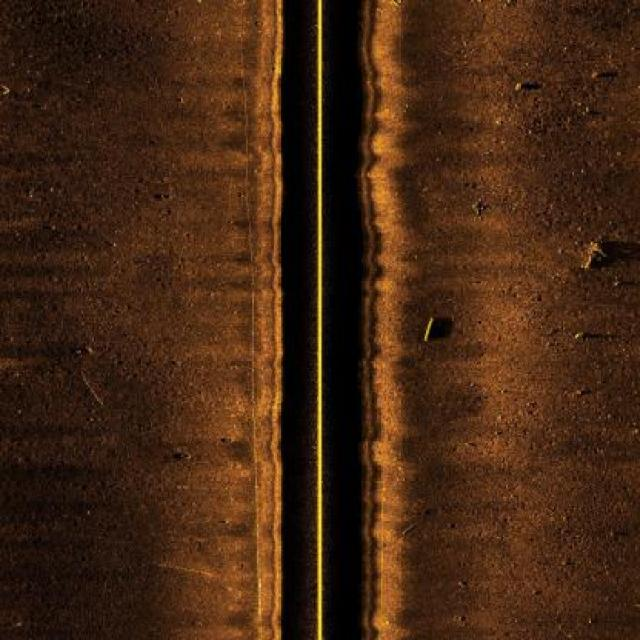mine: (420, 314, 455, 344)
other: (578, 234, 611, 272), (513, 82, 538, 90)
